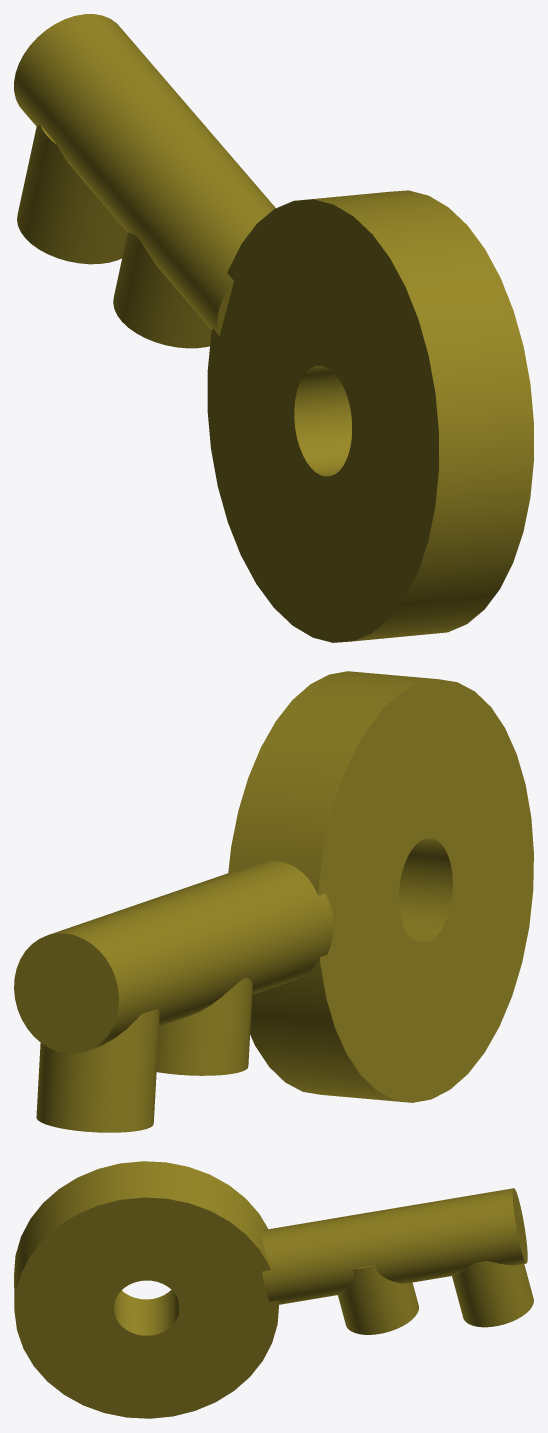
File: key.fbx
3 views of the same model, one above another, from view 1: azimuth 30°, elevation 25°; view 2: azimuth 150°, elevation 25°; view 3: azimuth 270°, elevation 25° (orthographic). The views are drawn at different scales.
Visible parts, largest first — view 1: Mesh, Mesh_001, Mesh_003, Mesh_002; view 2: Mesh, Mesh_001, Mesh_003, Mesh_002; view 3: Mesh, Mesh_001, Mesh_003, Mesh_002.
Part boxes in pixels (left/top/right/bottom): Mesh: left=207, top=190, right=533, bottom=642; Mesh_001: left=14, top=14, right=275, bottom=335; Mesh_003: left=17, top=124, right=127, bottom=264; Mesh_002: left=113, top=232, right=211, bottom=348; Mesh: left=228, top=671, right=533, bottom=1102; Mesh_001: left=14, top=861, right=333, bottom=1053; Mesh_003: left=36, top=1009, right=159, bottom=1132; Mesh_002: left=156, top=977, right=252, bottom=1075; Mesh: left=14, top=1161, right=278, bottom=1418; Mesh_001: left=262, top=1188, right=527, bottom=1304; Mesh_003: left=452, top=1261, right=533, bottom=1327; Mesh_002: left=338, top=1264, right=418, bottom=1334.
Bounding box in the file's own units: 137 × 358 × 687.
